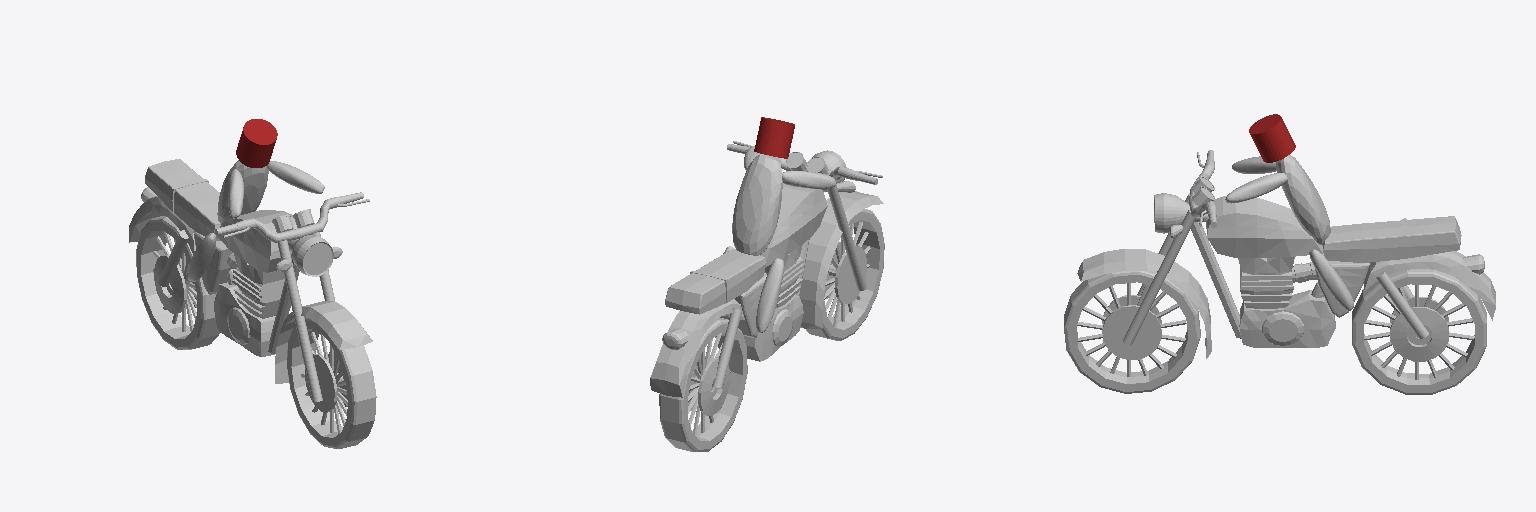
3 views of the same model, side by side, from view 1: azimuth 30°, elevation 25°; view 2: azimuth 150°, elevation 25°; view 3: azimuth 270°, elevation 25° (orthographic).
Visible parts, largest first — view 1: Front_wheel_Cylinder.002, Rear_wheel_Cylinder.002, Seat_Cube.002, Front_water_Cube.001, Gas_Tank_Cube.001, Engine_1_Cube.001, Engine_2_Cube.001, Front_bumper_left_Cylinder.001, 円柱_円柱.001, Steering_Cylinder.001, 立方体.006, Headlight_Cylinder.001 (+11 smaller); view 2: Rear_wheel_Cylinder.002, Front_wheel_Cylinder.002, 立方体.006, Seat_Cube.002, Front_water_Cube.001, Rear_water_Cube.001, Gas_Tank_Cube.001, Engine_2_Cube.001, 円柱_円柱.001, 立方体.003_立方体.011, Front_bumper_left_Cylinder.001, Engine_1_Cube.001 (+8 smaller); view 3: Rear_wheel_Cylinder.002, Front_wheel_Cylinder.002, Gas_Tank_Cube.001, Seat_Cube.002, Engine_2_Cube.001, Front_water_Cube.001, Engine_1_Cube.001, Rear_water_Cube.001, 立方体.006, Rear_wheel_inside_Cylinder.001, Front_wheel_inside_Cylinder.001, 円柱_円柱.001 (+10 smaller).
Part boxes in pixels (x1,y1,x2,y2): Front_wheel_Cylinder.002: (287,317,376,448); Rear_wheel_Cylinder.002: (136,216,220,349); Seat_Cube.002: (145,159,220,240); Front_water_Cube.001: (275,301,372,383); Gas_Tank_Cube.001: (217,210,297,272); Engine_1_Cube.001: (232,254,284,318); Engine_2_Cube.001: (214,282,275,356); Front_bumper_left_Cylinder.001: (278,240,322,402); 円柱_円柱.001: (236,119,277,167); Steering_Cylinder.001: (215,192,363,242); 立方体.006: (217,160,268,223); Headlight_Cylinder.001: (288,235,333,276); Rear_wheel_Cylinder.002: (659,317,747,451); Front_wheel_Cylinder.002: (806,209,884,340); 立方体.006: (732,154,782,255); Seat_Cube.002: (665,249,766,314); Front_water_Cube.001: (800,191,883,328); Rear_water_Cube.001: (650,299,744,397); Gas_Tank_Cube.001: (760,183,827,266); Engine_2_Cube.001: (743,295,803,361); 円柱_円柱.001: (754,117,794,158); 立方体.003_立方体.011: (756,258,783,332); Front_bumper_left_Cylinder.001: (827,185,866,290); Engine_1_Cube.001: (765,244,804,307); Rear_wheel_Cylinder.002: (1352,269,1486,394); Front_wheel_Cylinder.002: (1064,271,1200,393); Gas_Tank_Cube.001: (1206,196,1322,257); Seat_Cube.002: (1322,216,1461,262); Engine_2_Cube.001: (1239,290,1335,347); Front_water_Cube.001: (1077,249,1211,358); Engine_1_Cube.001: (1238,257,1294,308); Rear_water_Cube.001: (1364,251,1495,320); 立方体.006: (1276,155,1330,244); Rear_wheel_inside_Cylinder.001: (1364,285,1474,379); Front_wheel_inside_Cylinder.001: (1077,283,1186,376); 円柱_円柱.001: (1249,114,1295,162).
Size of the model in its own units: 2.85 by 5.04 by 7.22.
Materials: 14 (1 with a texture image).